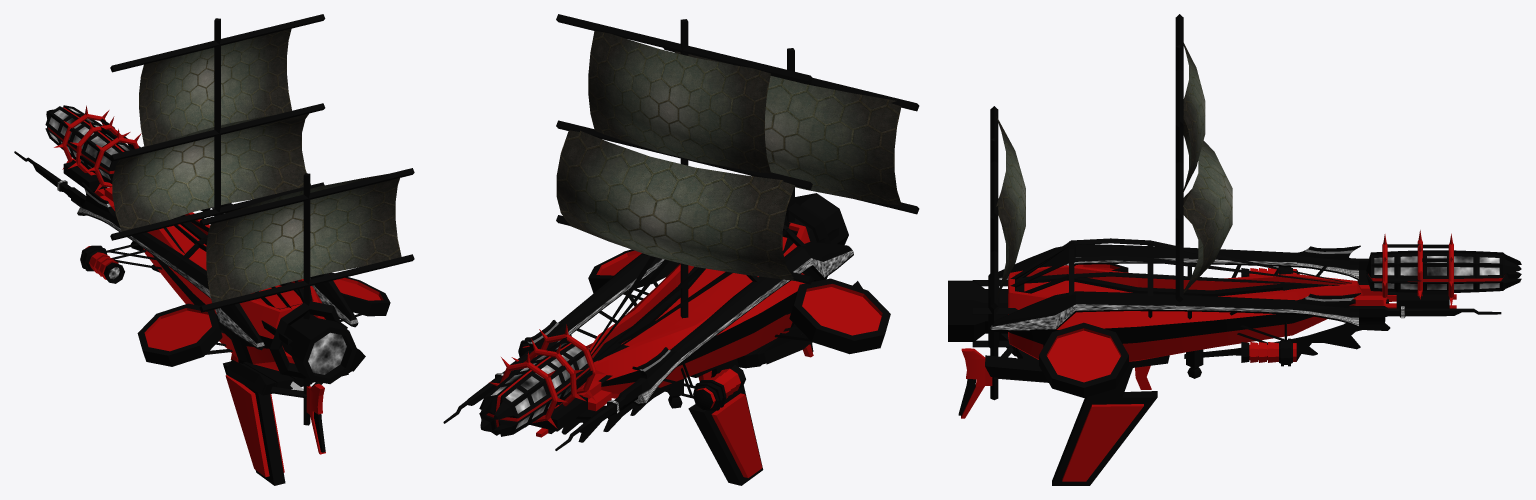
The model's file is P1ShipV2.fbx.
The picture shows the model from 3 angles, left to right: view 1: azimuth 30°, elevation 25°; view 2: azimuth 150°, elevation 25°; view 3: azimuth 270°, elevation 25°; orthographic projection. The views are drawn at different scales.
Visible parts, largest first — view 1: P1VoileC, P1VoileB, P1VoileA, pCylinder1, pPlane4, pCylinder28, pCylinder25, pPlane19, pCylinder44, pPlane3, pCylinder57, pCylinder15 (+16 smaller); view 2: P1VoileB, P1VoileA, P1VoileC, pCylinder1, pPlane4, pCylinder28, pCylinder44, pPlane19, pPlane2, pCylinder19, pCylinder56, pCylinder25 (+15 smaller); view 3: pCylinder1, pPlane2, pPlane19, pCylinder44, pCylinder3, pPlane4, P1VoileB, pCylinder56, P1VoileC, pCylinder25, P1VoileA, pCylinder51 (+9 smaller).
Part boxes in pixels (left/top/right/bottom): P1VoileC: left=206, top=174, right=401, bottom=302; P1VoileB: left=112, top=113, right=310, bottom=231; P1VoileA: left=139, top=28, right=291, bottom=146; pCylinder1: left=143, top=212, right=325, bottom=370; pPlane4: left=14, top=151, right=264, bottom=350; pCylinder28: left=137, top=303, right=222, bottom=366; pCylinder25: left=282, top=314, right=357, bottom=383; pPlane19: left=223, top=359, right=285, bottom=485; pCylinder44: left=45, top=105, right=132, bottom=183; pPlane3: left=226, top=348, right=365, bottom=395; pCylinder57: left=199, top=254, right=414, bottom=312; pCylinder15: left=110, top=103, right=325, bottom=161; P1VoileB: left=556, top=130, right=795, bottom=280; P1VoileA: left=588, top=30, right=770, bottom=173; P1VoileC: left=675, top=51, right=901, bottom=205; pCylinder1: left=579, top=222, right=812, bottom=398; pPlane4: left=555, top=242, right=853, bottom=450; pCylinder28: left=789, top=278, right=890, bottom=354; pCylinder44: left=479, top=340, right=593, bottom=436; pPlane19: left=688, top=358, right=763, bottom=485; pPlane2: left=443, top=253, right=664, bottom=423; pCylinder19: left=556, top=14, right=812, bottom=83; pCylinder56: left=590, top=221, right=796, bottom=360; pCylinder25: left=784, top=193, right=848, bottom=244; pCylinder1: left=1008, top=265, right=1363, bottom=361; pPlane2: left=989, top=291, right=1501, bottom=331; pPlane19: left=1052, top=355, right=1169, bottom=485; pCylinder44: left=1366, top=250, right=1521, bottom=292; pCylinder3: left=1039, top=322, right=1128, bottom=397; pPlane4: left=998, top=244, right=1368, bottom=279; P1VoileB: left=1183, top=140, right=1232, bottom=293; pCylinder56: left=1010, top=238, right=1351, bottom=293; P1VoileC: left=996, top=116, right=1025, bottom=296; pCylinder25: left=948, top=280, right=1008, bottom=341; P1VoileA: left=1181, top=43, right=1205, bottom=196; pCylinder51: left=1015, top=274, right=1327, bottom=296.
Bounding box in the file's own units: 10.75 × 17.75 × 21.16.
